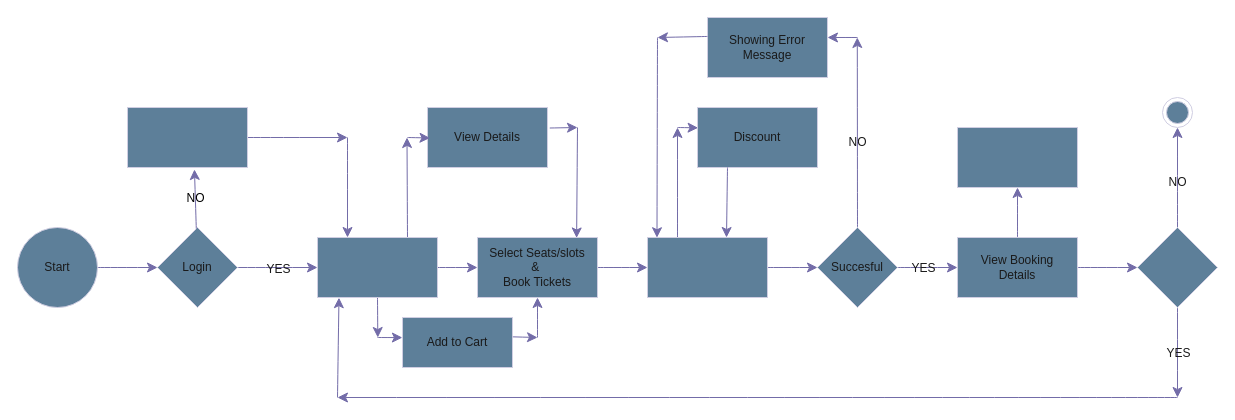
The diagram is 1235 pixels wide and 420 high, and some of its shapes have lost their labels. Here are the shapes that lost their labels. From the top down, the centre of each, then its label:
(187,137): Register New Account
(1017,157): Download Tickets
(377,267): Search Movies/Parks /Museums
(707,267): Proceed to Payment
(1177,267): Explore More
